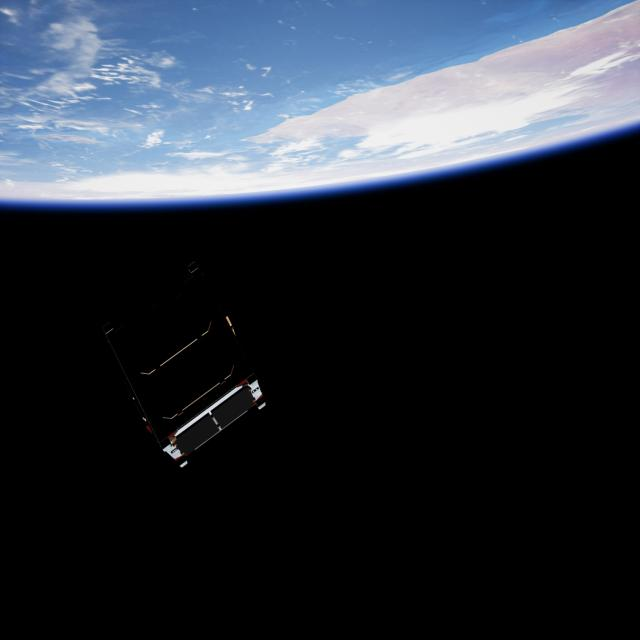medium_debris: (100, 255, 266, 480)
